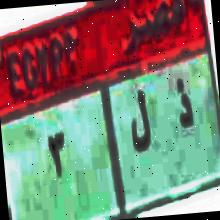3: (46, 126, 72, 176)
laam: (123, 82, 155, 158)
zaal: (170, 79, 202, 137)
